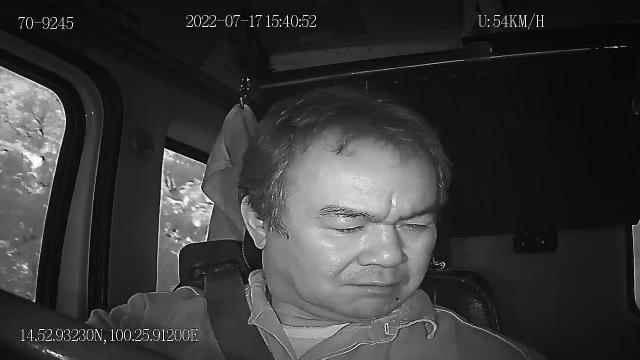SafeDriving: (313, 205, 373, 237), (389, 210, 438, 234)
Seatbelt: (202, 266, 278, 360)
